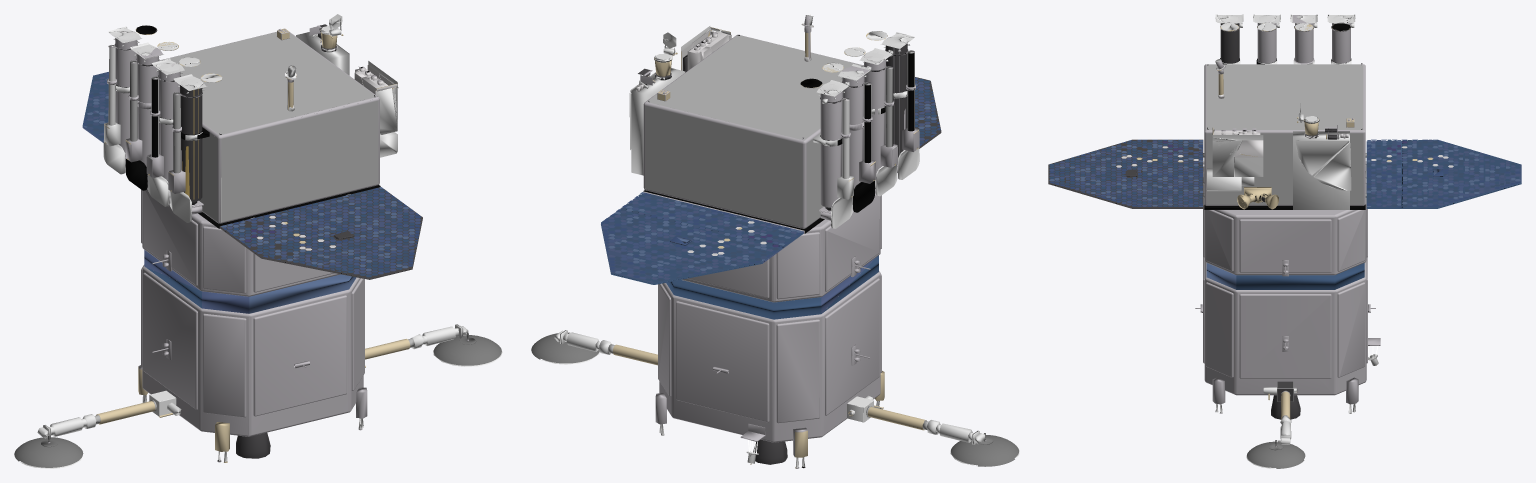
File: sdo.glb
The picture shows the model from 3 angles, left to right: view 1: azimuth 30°, elevation 25°; view 2: azimuth 150°, elevation 25°; view 3: azimuth 270°, elevation 25°; orthographic projection. The views are drawn at different scales.
Parts seen in each view (by area): view 1: Fake; view 2: Fake; view 3: Fake.
Boxes of the visible parts, bbox=[...] form: Fake: bbox=[14, 14, 502, 468]; Fake: bbox=[531, 15, 1019, 468]; Fake: bbox=[1048, 14, 1521, 468].
Bounding box in the file's own units: 6.6 × 5.48 × 6.6.
